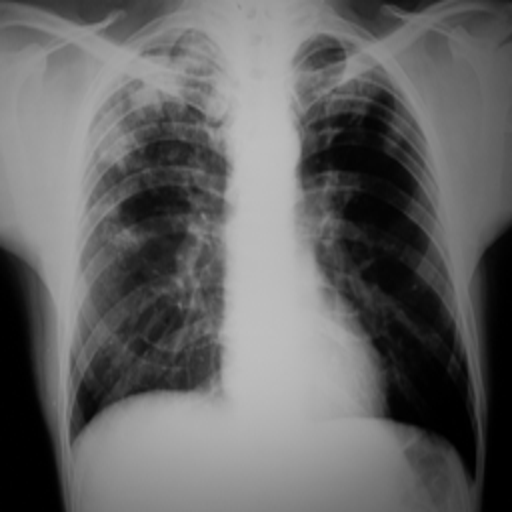TB: (80, 30, 222, 165)
